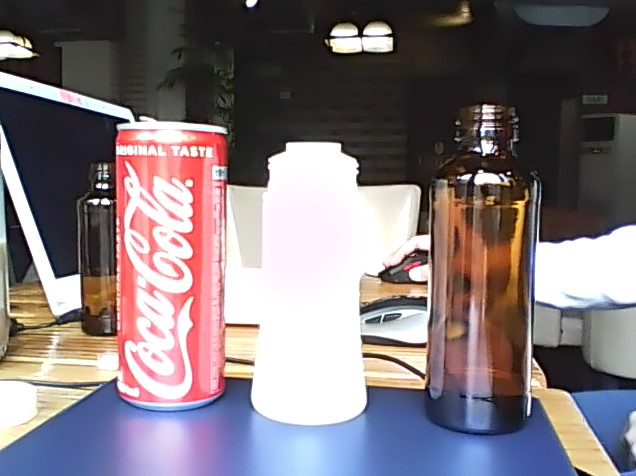Can: (105, 113, 232, 413)
Glass: (424, 98, 538, 441)
Plastic: (250, 136, 372, 430)
